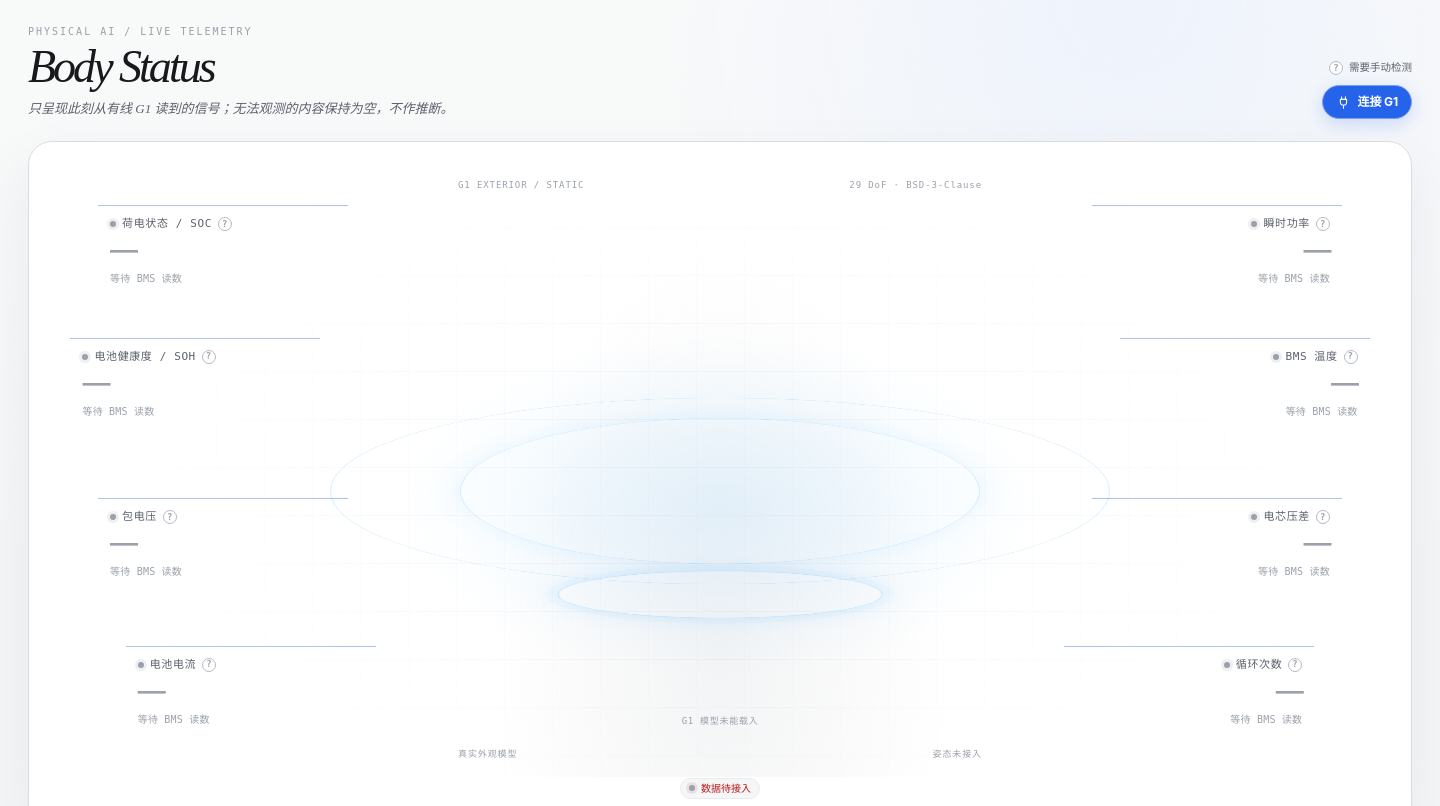
G1MonitorView › renders BMS values only when the bridge marks them live
What coordinates should you click on to do the following:
click the button "连接 G1"
I would click on:
 (1367, 102)
Its box is [1322, 85, 1412, 119].
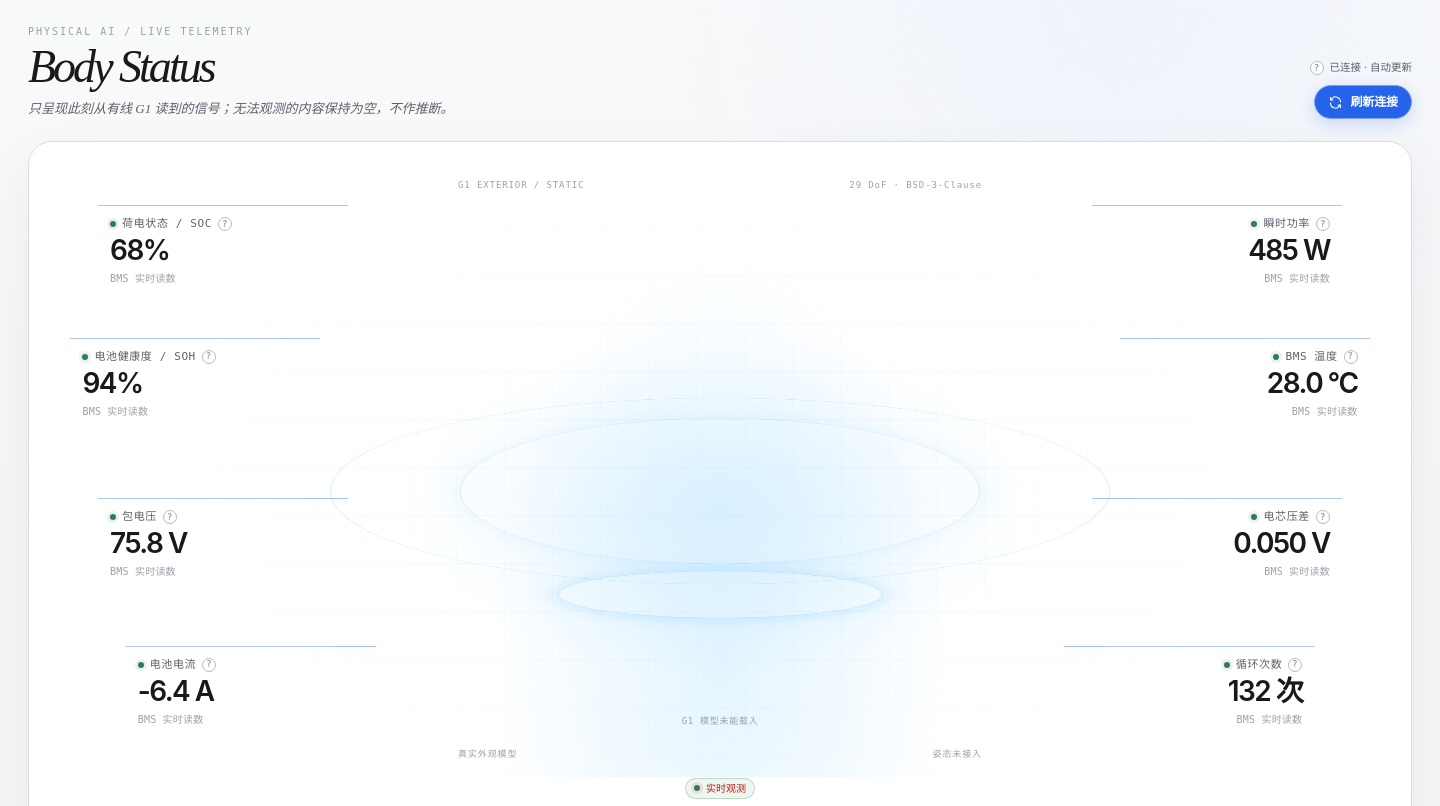
Expected: the text "68%" is shown, [110, 233, 169, 267]
Expected: the text "75.8 V" is shown, [110, 526, 187, 560]
Expected: the text "-6.4 A" is shown, [138, 674, 214, 708]
